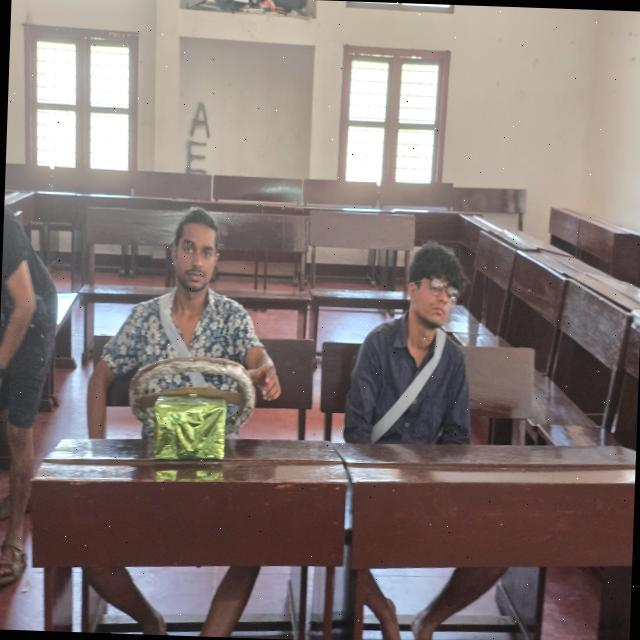seatbelt: (148, 289, 252, 438), (353, 316, 457, 448)
